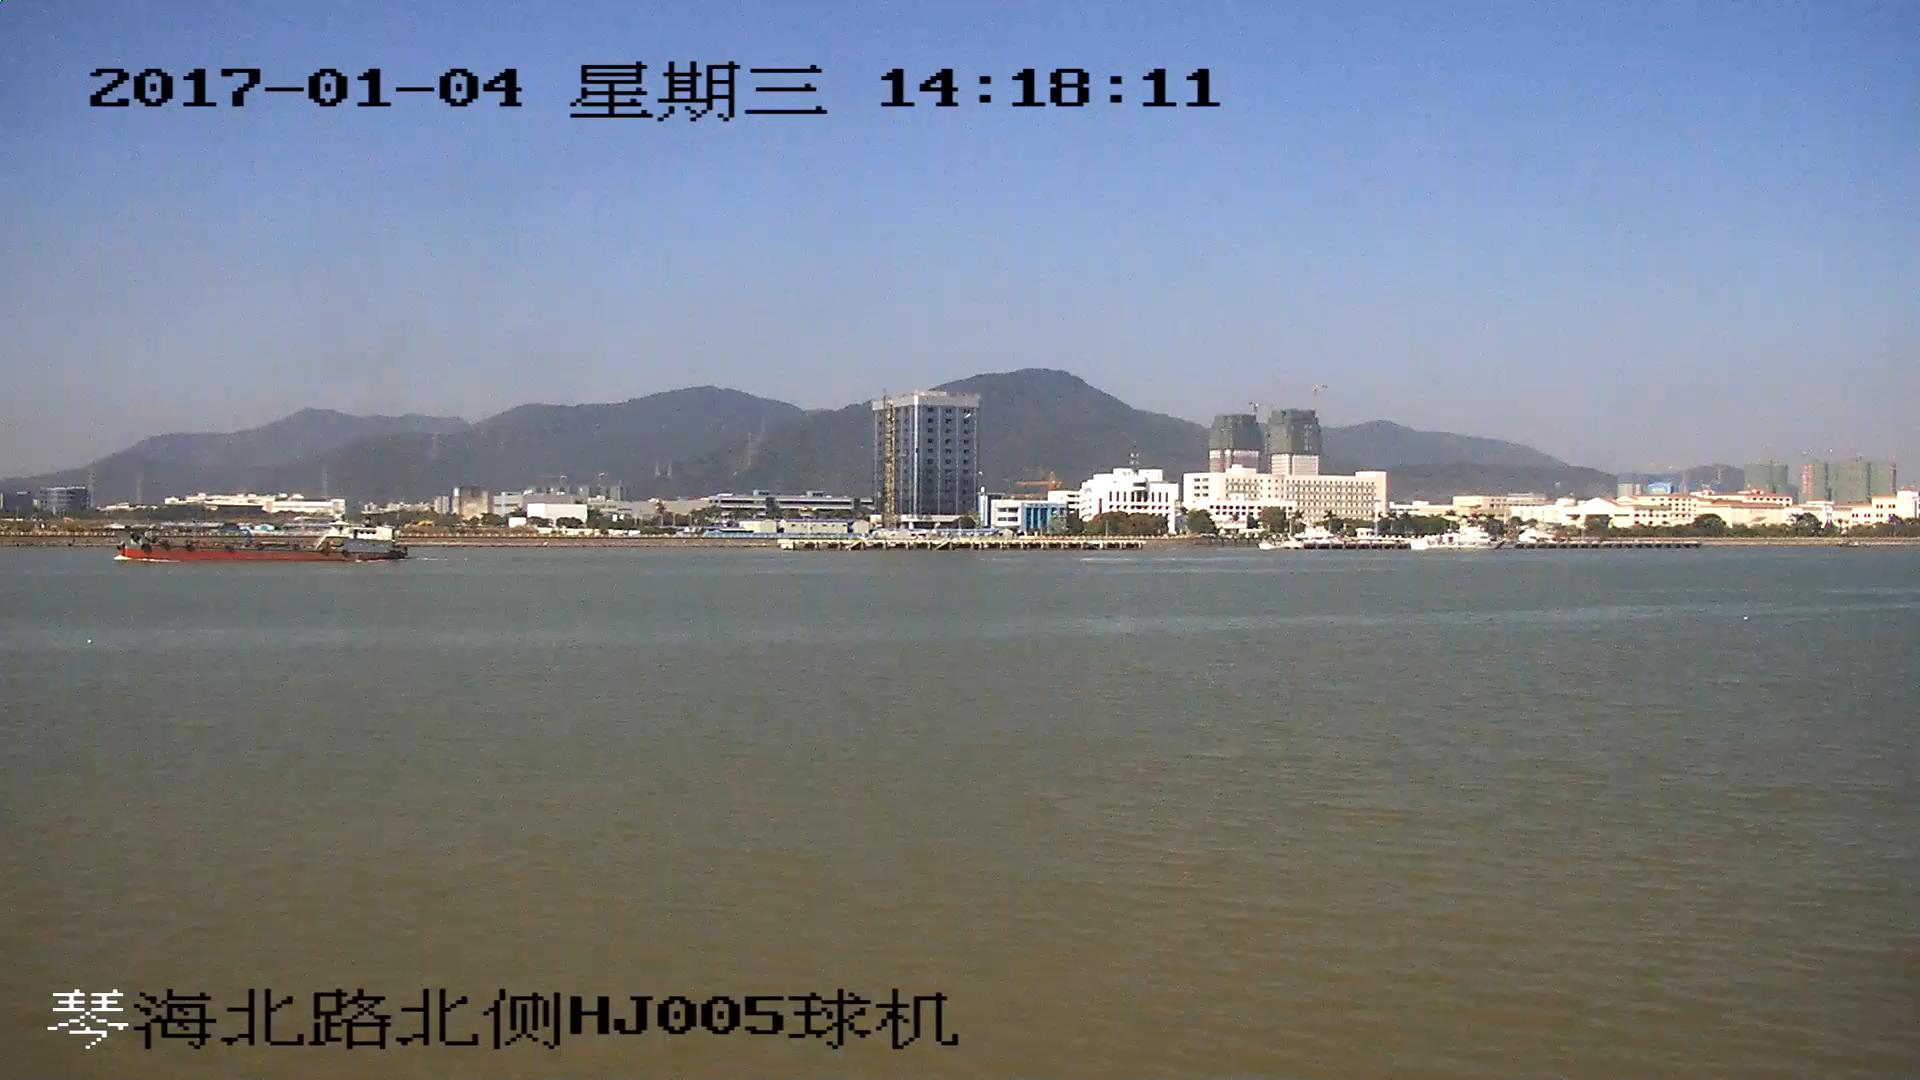general cargo ship: (124, 510, 406, 562)
